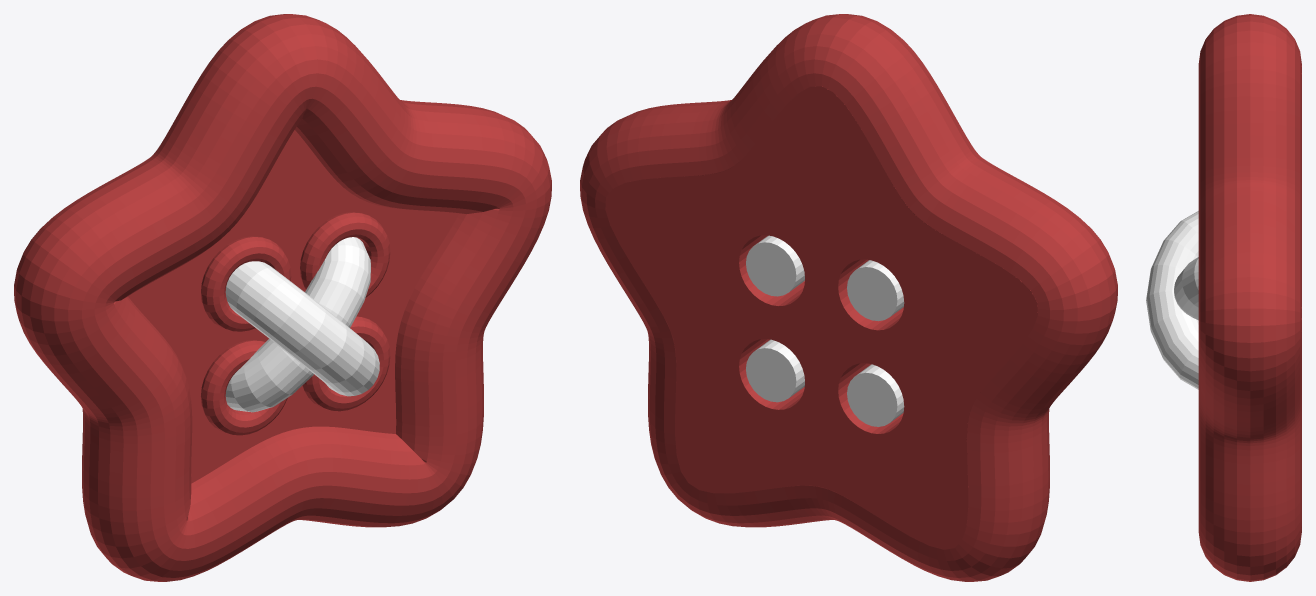
The model's file is Button_star.glb.
3 renders of one model, left to right at view 1: azimuth 30°, elevation 25°; view 2: azimuth 150°, elevation 25°; view 3: azimuth 270°, elevation 25°, orthographic. The views are drawn at different scales.
Parts seen in each view (by area): view 1: Button_star_body, Cube.3723; view 2: Button_star_body, Cube.3723; view 3: Button_star_body, Cube.3723.
Boxes of the visible parts, x1=… form: Button_star_body: x1=14, y1=14, x2=551, y2=581; Cube.3723: x1=225, y1=237, x2=379, y2=412; Button_star_body: x1=580, y1=14, x2=1117, y2=581; Cube.3723: x1=746, y1=235, x2=904, y2=426; Button_star_body: x1=1198, y1=14, x2=1301, y2=581; Cube.3723: x1=1146, y1=211, x2=1198, y2=389.
Size of the model in its own units: 15.82 by 15.3 by 4.32.
